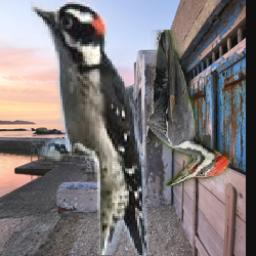Woodpecker: (32, 1, 150, 256), (147, 31, 230, 187)
